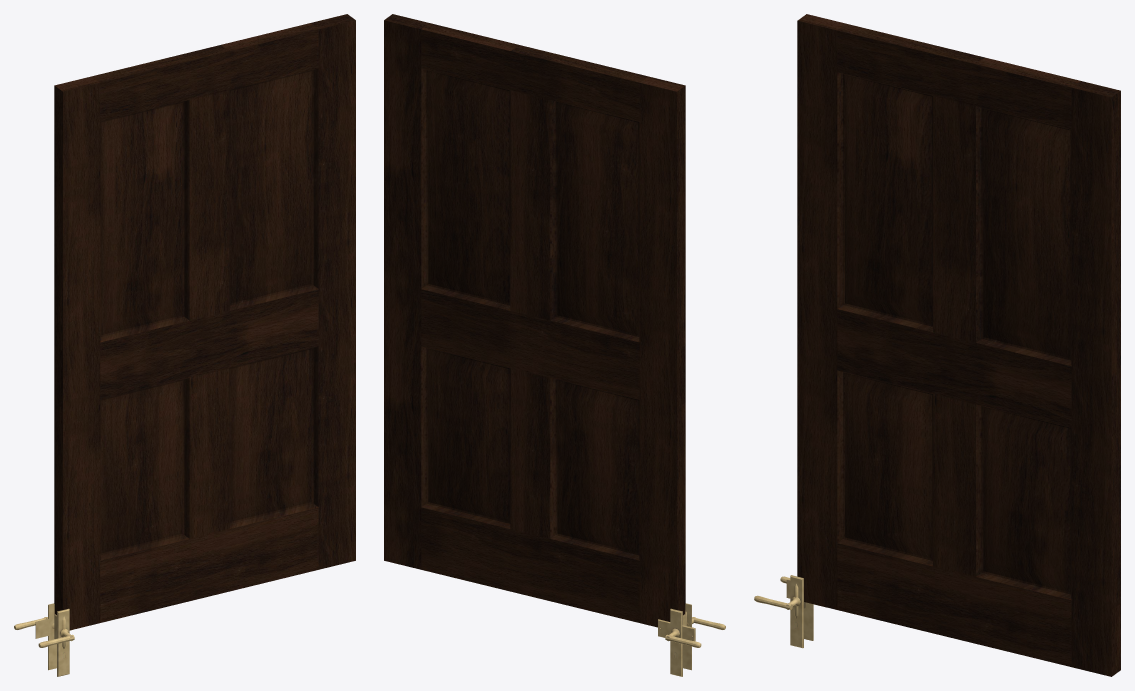
File: door_room.glb
3 views of the same model, side by side, from view 1: azimuth 30°, elevation 25°; view 2: azimuth 150°, elevation 25°; view 3: azimuth 330°, elevation 25° (orthographic). The views are drawn at different scales.
Parts seen in each view (by area): view 1: leaf, handle; view 2: leaf, handle; view 3: leaf, handle.
Part boxes in pixels (bbox=[...]): leaf: bbox=[54, 14, 355, 630]; handle: bbox=[14, 603, 74, 676]; leaf: bbox=[384, 14, 685, 627]; handle: bbox=[665, 603, 725, 676]; leaf: bbox=[797, 14, 1120, 676]; handle: bbox=[754, 575, 813, 648].
Size of the model in its own units: 1.31 by 2.24 by 0.192.
2 materials, 2 textured.
